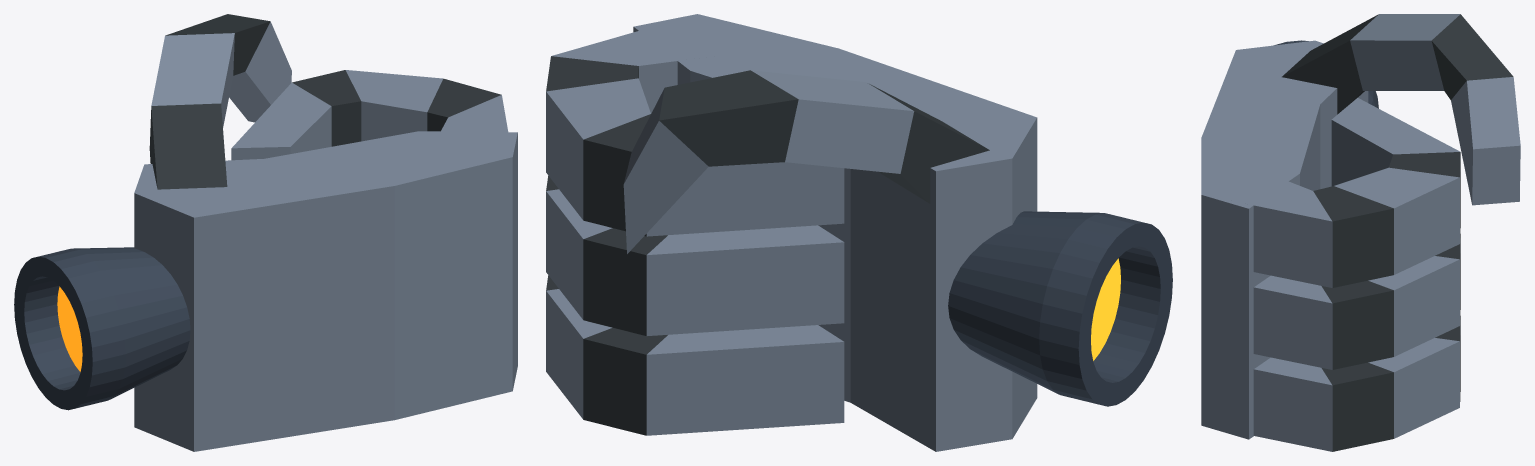
Rendered from boss hand.fbx.
3 views of the same model, side by side, from view 1: azimuth 30°, elevation 25°; view 2: azimuth 150°, elevation 25°; view 3: azimuth 270°, elevation 25° (orthographic). The views are drawn at different scales.
Visible parts, largest first — view 1: Hand, Cylinder.002; view 2: Hand, Cylinder.002; view 3: Hand.
Part boxes in pixels (left/top/right/bottom): Hand: left=134, top=14, right=517, bottom=451; Cylinder.002: left=14, top=247, right=190, bottom=410; Hand: left=546, top=14, right=1037, bottom=451; Cylinder.002: left=948, top=211, right=1172, bottom=406; Hand: left=1201, top=14, right=1520, bottom=451.
Size of the model in its own units: 234 by 150 by 141.
